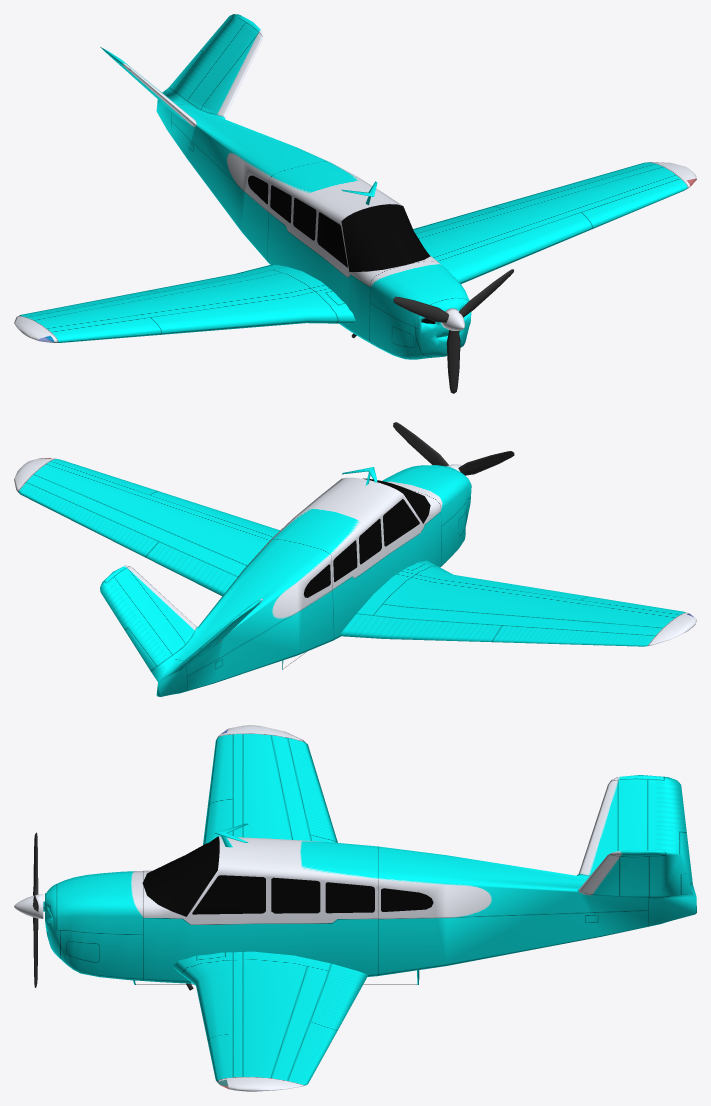
Rendered from airplane5.obj.
The picture shows the model from 3 angles, top to bottom: view 1: azimuth 30°, elevation 25°; view 2: azimuth 150°, elevation 25°; view 3: azimuth 270°, elevation 25°; orthographic projection. The views are drawn at different scales.
Visible parts, largest first — view 1: aircraft, window, propeller; view 2: aircraft, window, propeller; view 3: aircraft, window, propeller.
Part boxes in pixels (x1,y1,x2,y2): aircraft: [14, 14, 696, 359]; window: [248, 175, 430, 271]; propeller: [393, 269, 513, 393]; aircraft: [14, 458, 696, 696]; window: [303, 478, 430, 597]; propeller: [393, 422, 514, 475]; aircraft: [43, 725, 696, 1091]; window: [142, 836, 433, 916]; propeller: [14, 832, 43, 987].
Size of the model in its own units: 11.72 by 2.63 by 9.29.
Materials: 5 (1 with a texture image).
